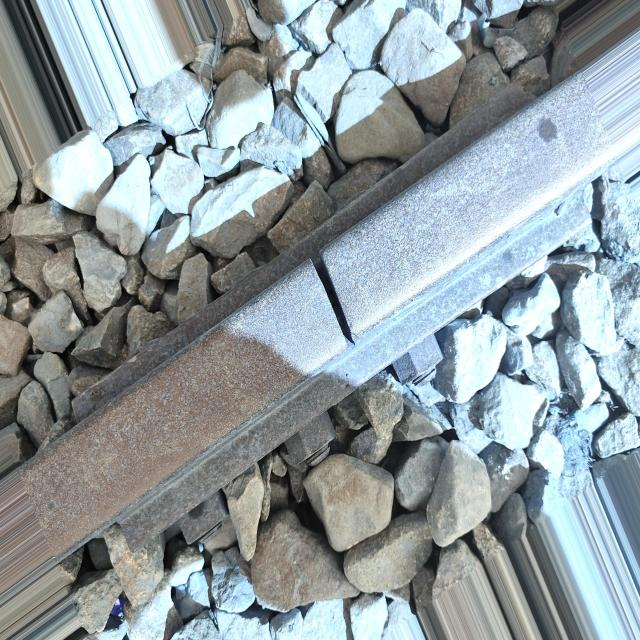crack: (288, 231, 374, 352)
